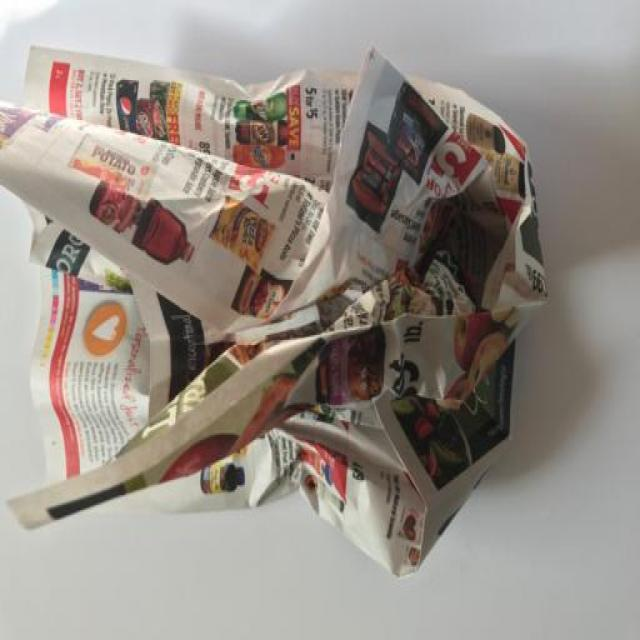paper: (6, 46, 541, 561)
